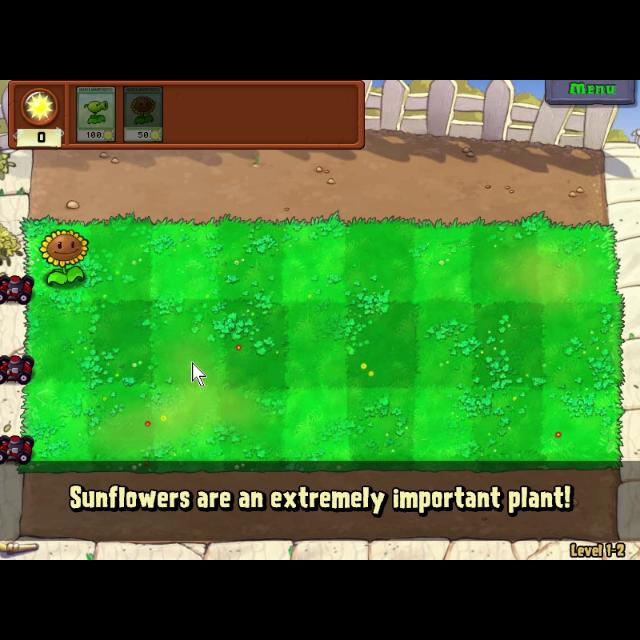Garden: (17, 216, 626, 472)
Menu Button: (543, 80, 637, 104)
Mower: (1, 272, 36, 306), (0, 431, 34, 465), (0, 352, 32, 384)
Peashooter: (75, 84, 117, 144)
Seed Panel: (8, 80, 366, 152)
Sunflower: (119, 82, 167, 144)
Sunflower Seed: (38, 228, 92, 288)
